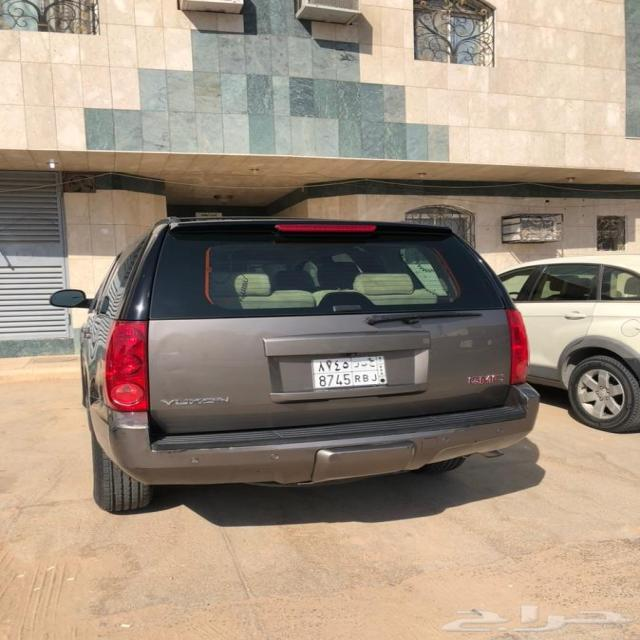license_plate: (310, 354, 390, 392)
